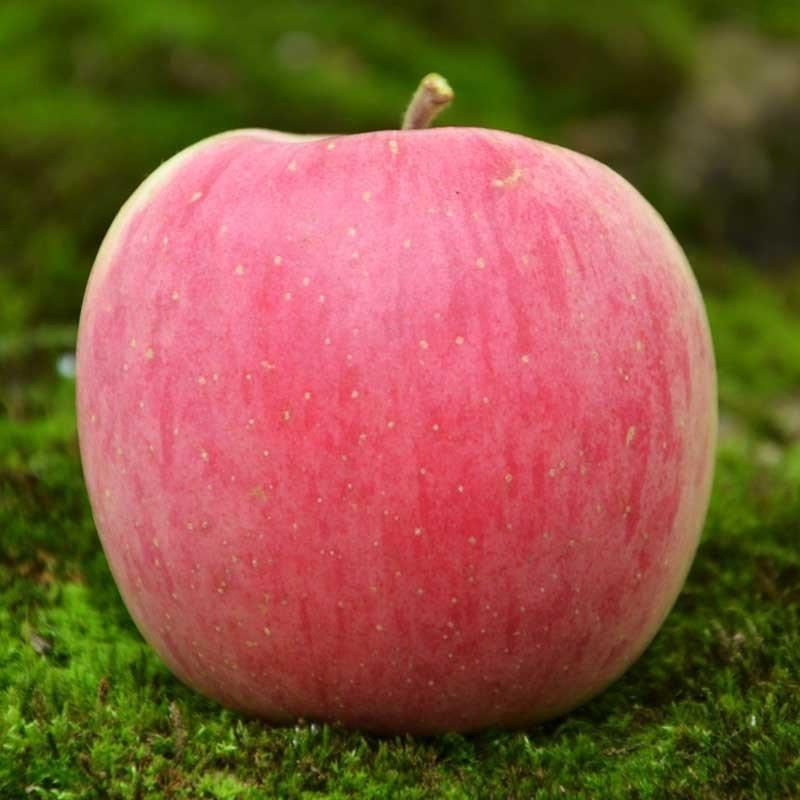apple: (74, 83, 716, 724)
